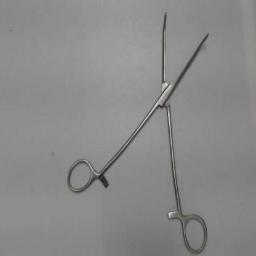Lahey Forceps: (64, 8, 214, 256)
